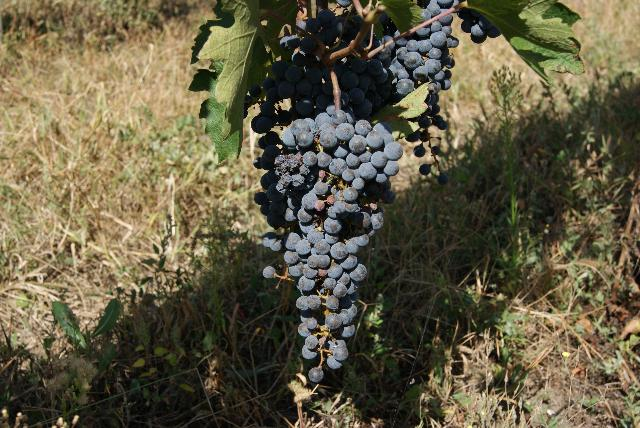grapes: (255, 105, 401, 382)
